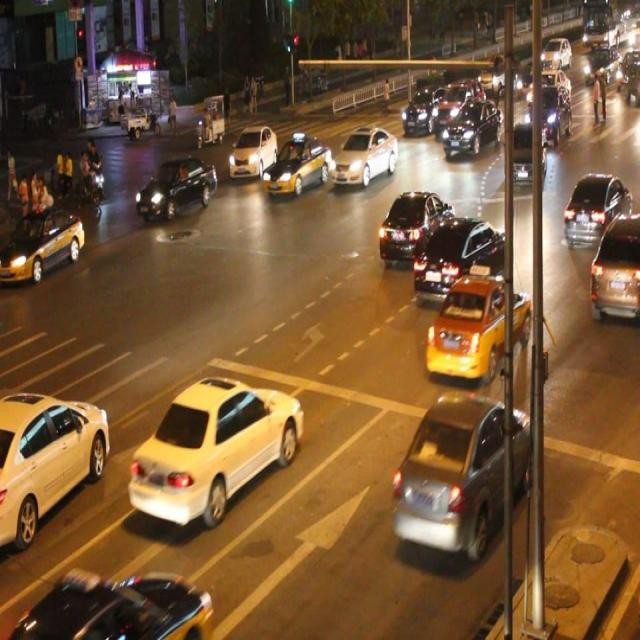car: (131, 375, 304, 525), (391, 392, 533, 555), (1, 388, 110, 544), (11, 569, 210, 640), (426, 274, 531, 376), (413, 218, 507, 294), (1, 209, 85, 283), (378, 187, 454, 263), (588, 213, 640, 317), (136, 158, 218, 220), (563, 172, 630, 242), (328, 125, 397, 187), (262, 134, 330, 195), (441, 100, 502, 155), (431, 77, 485, 138), (401, 84, 450, 134), (229, 126, 276, 177), (508, 122, 544, 180)
